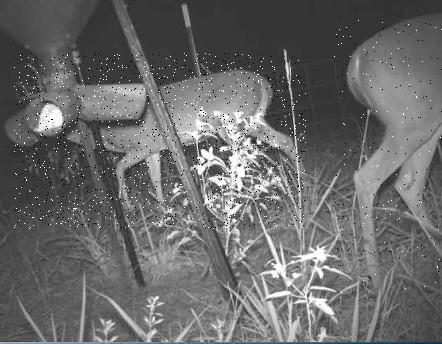Deer: (14, 53, 306, 229), (334, 14, 442, 293)
